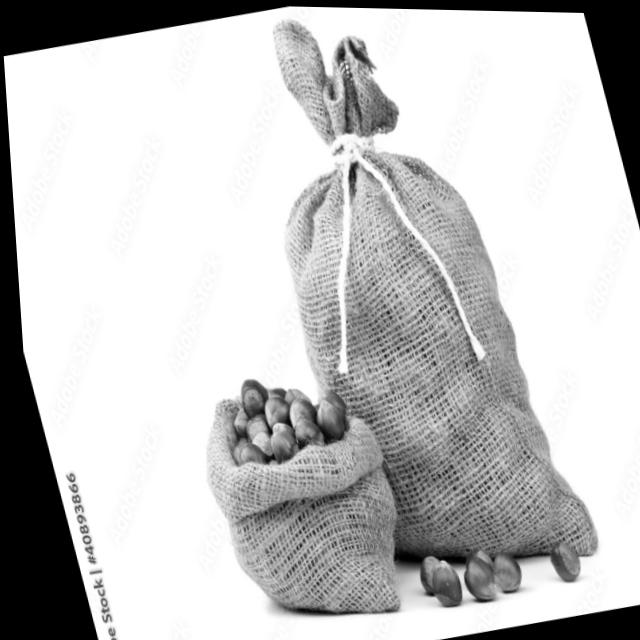sack: (222, 4, 597, 597), (181, 369, 414, 637)
